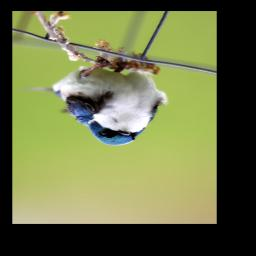Swallow: (20, 56, 169, 146)
